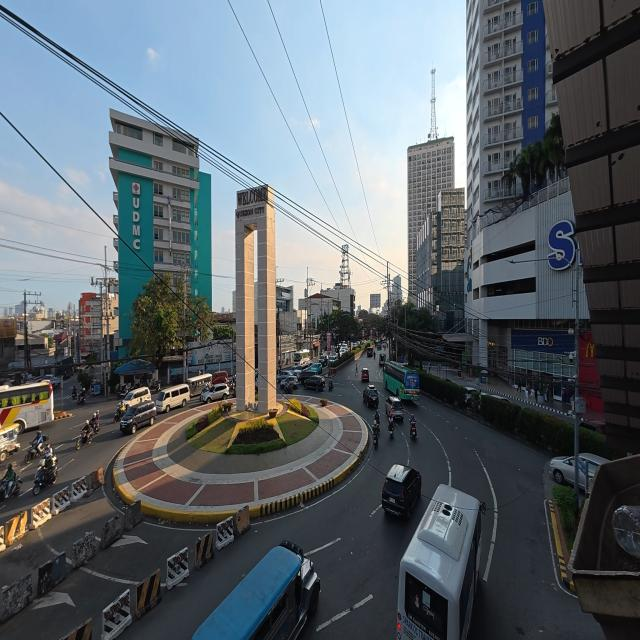Jeepneys: (193, 541, 320, 639), (0, 423, 19, 462), (186, 373, 216, 397), (379, 354, 385, 366)
bus: (398, 485, 481, 639), (0, 381, 53, 433), (384, 362, 419, 400), (294, 350, 309, 364)
car: (382, 464, 421, 519), (120, 401, 156, 434), (580, 453, 608, 482), (123, 387, 151, 408), (200, 383, 230, 402), (385, 396, 403, 421), (363, 385, 379, 407), (580, 420, 605, 434), (304, 375, 324, 391), (298, 369, 317, 385), (210, 371, 228, 387), (280, 376, 298, 389), (465, 387, 479, 402), (488, 394, 510, 403), (277, 370, 291, 383), (308, 361, 322, 373), (299, 361, 311, 371), (318, 355, 328, 366), (361, 368, 369, 381), (329, 355, 338, 366), (367, 347, 374, 357), (377, 344, 381, 350)
motorcycle: (33, 456, 57, 495), (0, 475, 22, 502), (25, 444, 44, 464), (76, 427, 93, 449), (114, 402, 125, 422), (90, 411, 100, 433), (118, 385, 130, 399), (373, 420, 379, 447), (76, 390, 86, 405), (151, 380, 161, 393), (410, 422, 416, 439), (373, 433, 378, 447), (389, 423, 393, 438), (329, 378, 333, 391), (72, 390, 77, 400)
vans: (156, 384, 189, 412)
